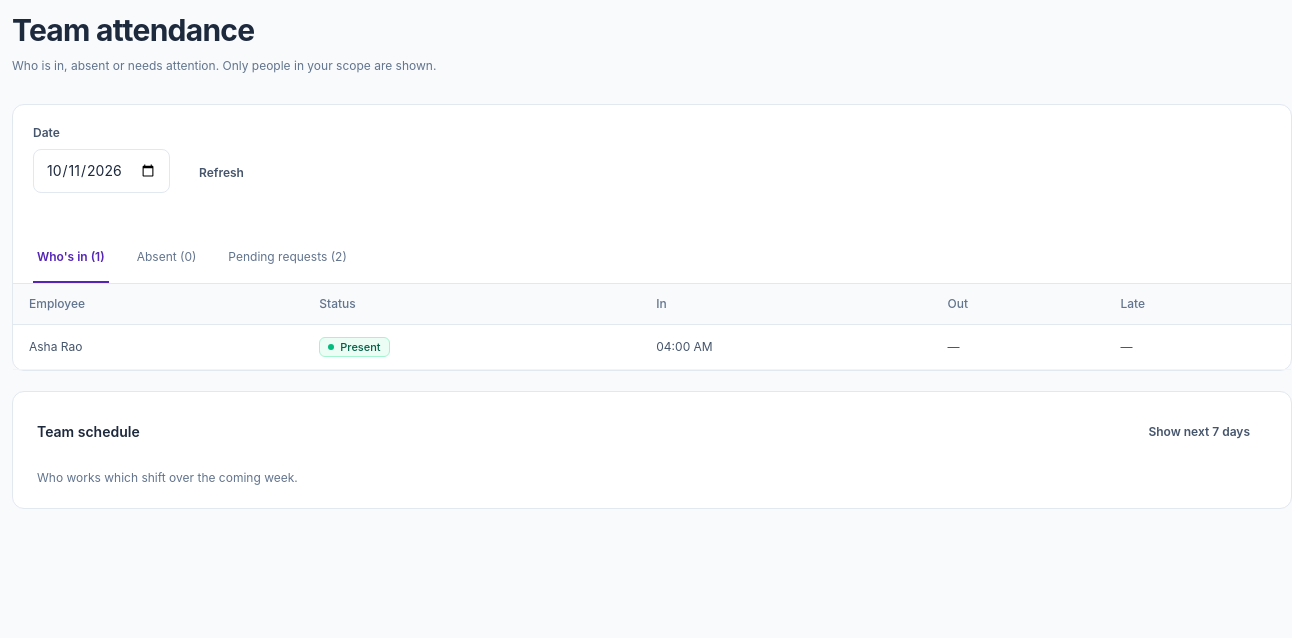
Test: TeamAttendance › lists who is in, with an empty state per group
The width and height of the screenshot is (1292, 638).
Check: the text "Asha Rao" is shown, box x1=13 y1=324 x2=303 y2=370
Click the tab "Absent (0)": (167,258) x1=133 y1=232 x2=200 y2=282
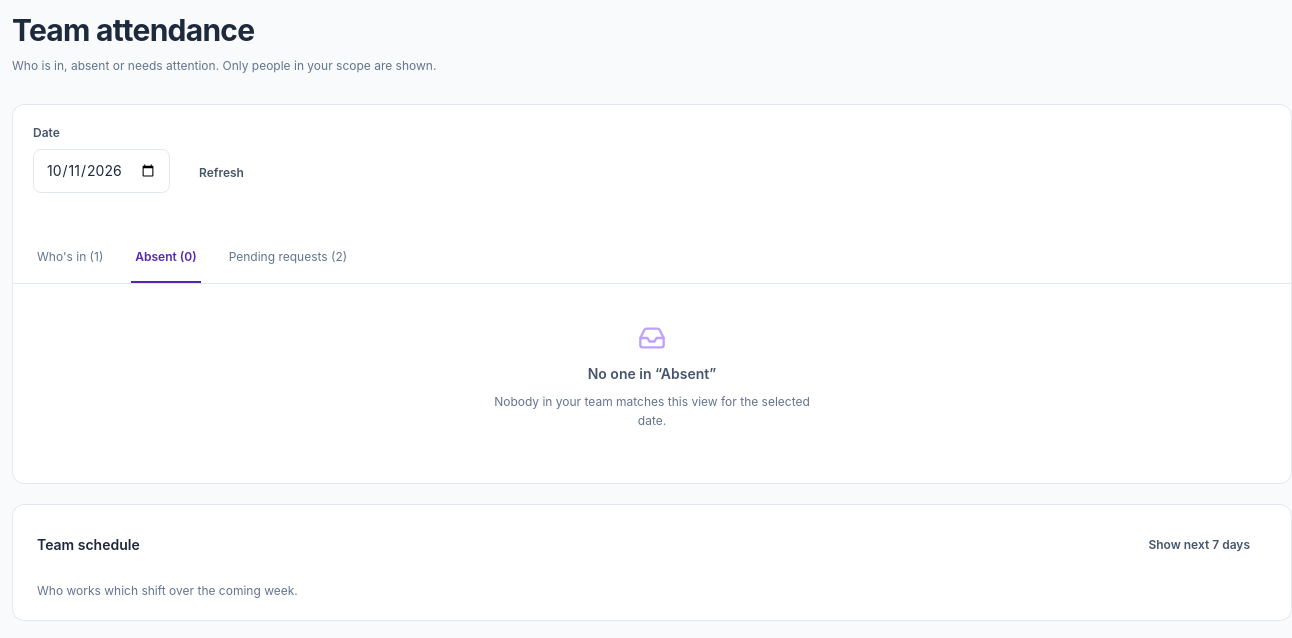
Check: the heading "No one in “Absent”" is shown, box x1=588 y1=364 x2=716 y2=382
